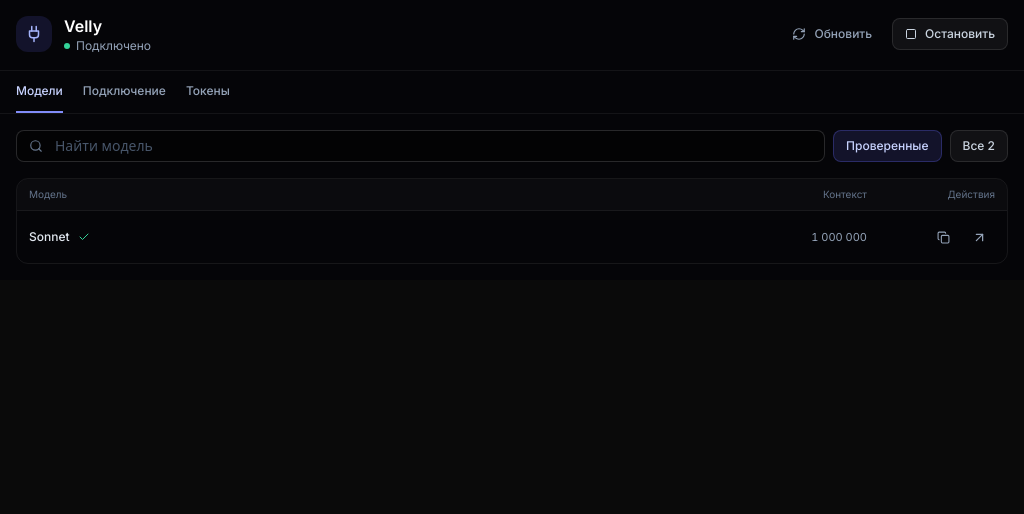
Scenario: exports an API token only after an explicit click and shows the path
This screenshot has width=1024, height=514.
Expected: the text "Sonnet" is shown, x1=29 y1=229 x2=70 y2=245
Step 1. Click the tab "Токены" → (208, 92), box x1=186 y1=71 x2=230 y2=113
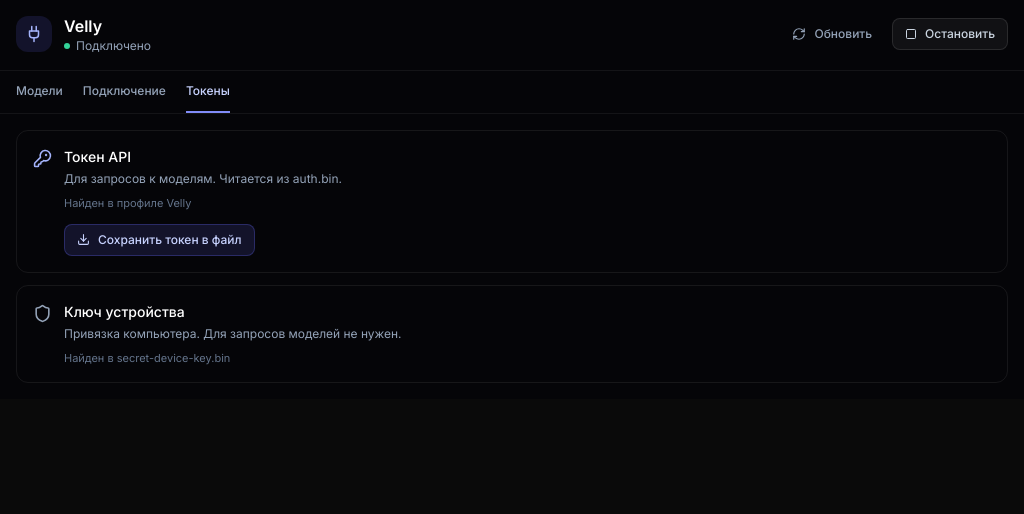
Now the heading "Токен API" is shown, box x1=64 y1=148 x2=131 y2=165
Now the heading "Ключ устройства" is shown, box x1=64 y1=302 x2=185 y2=320
Step 2. Click the button "Сохранить токен в файл" → (159, 240), box x1=64 y1=224 x2=255 y2=256
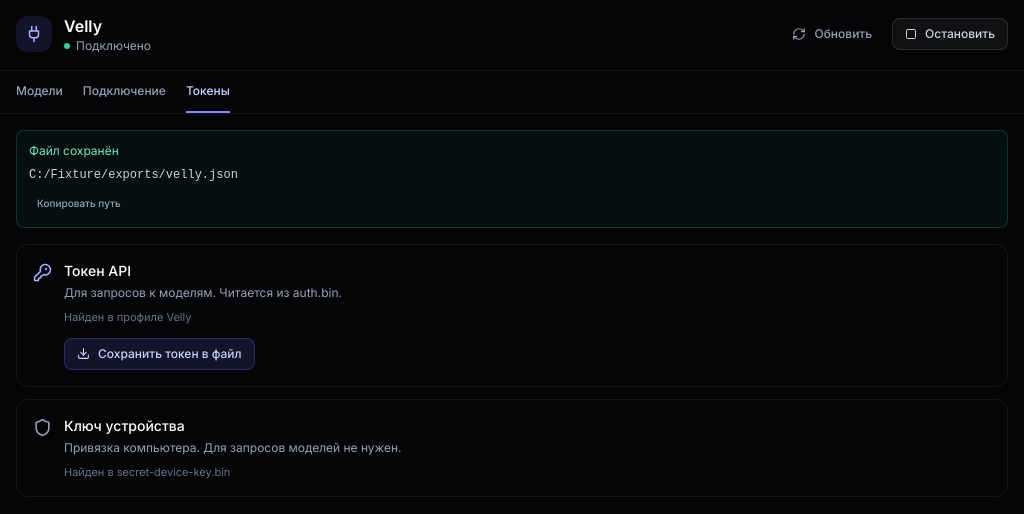
Now the text "C:/Fixture/exports/velly.json" is shown, box x1=29 y1=168 x2=238 y2=182
